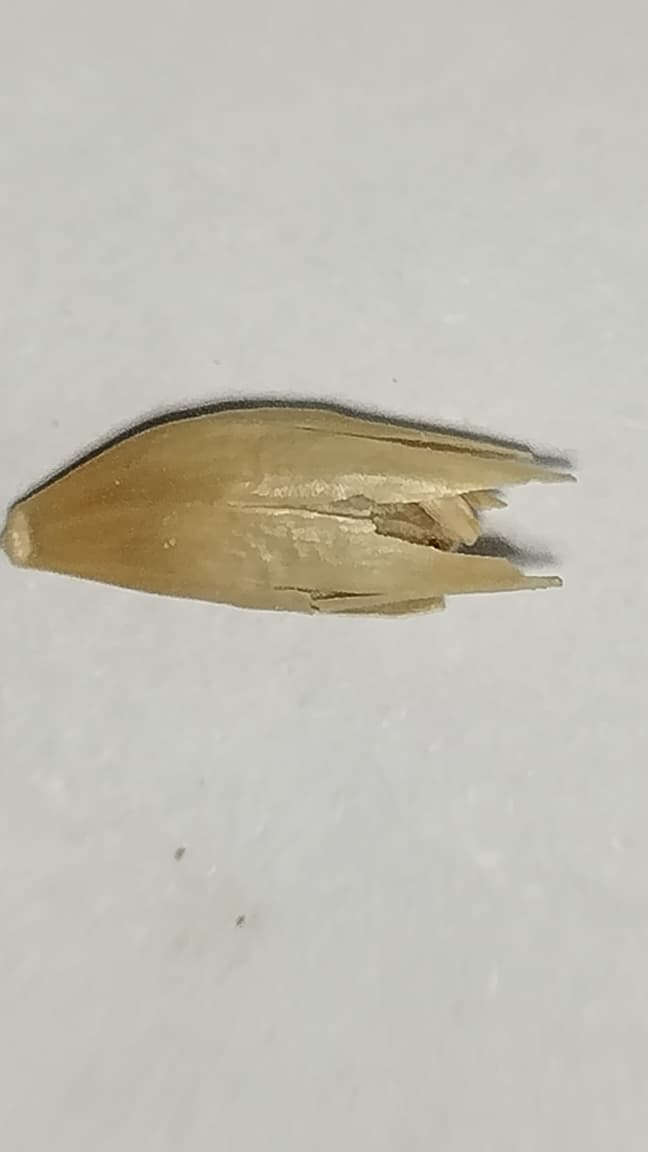healthy-70-60: (1, 406, 564, 614)
